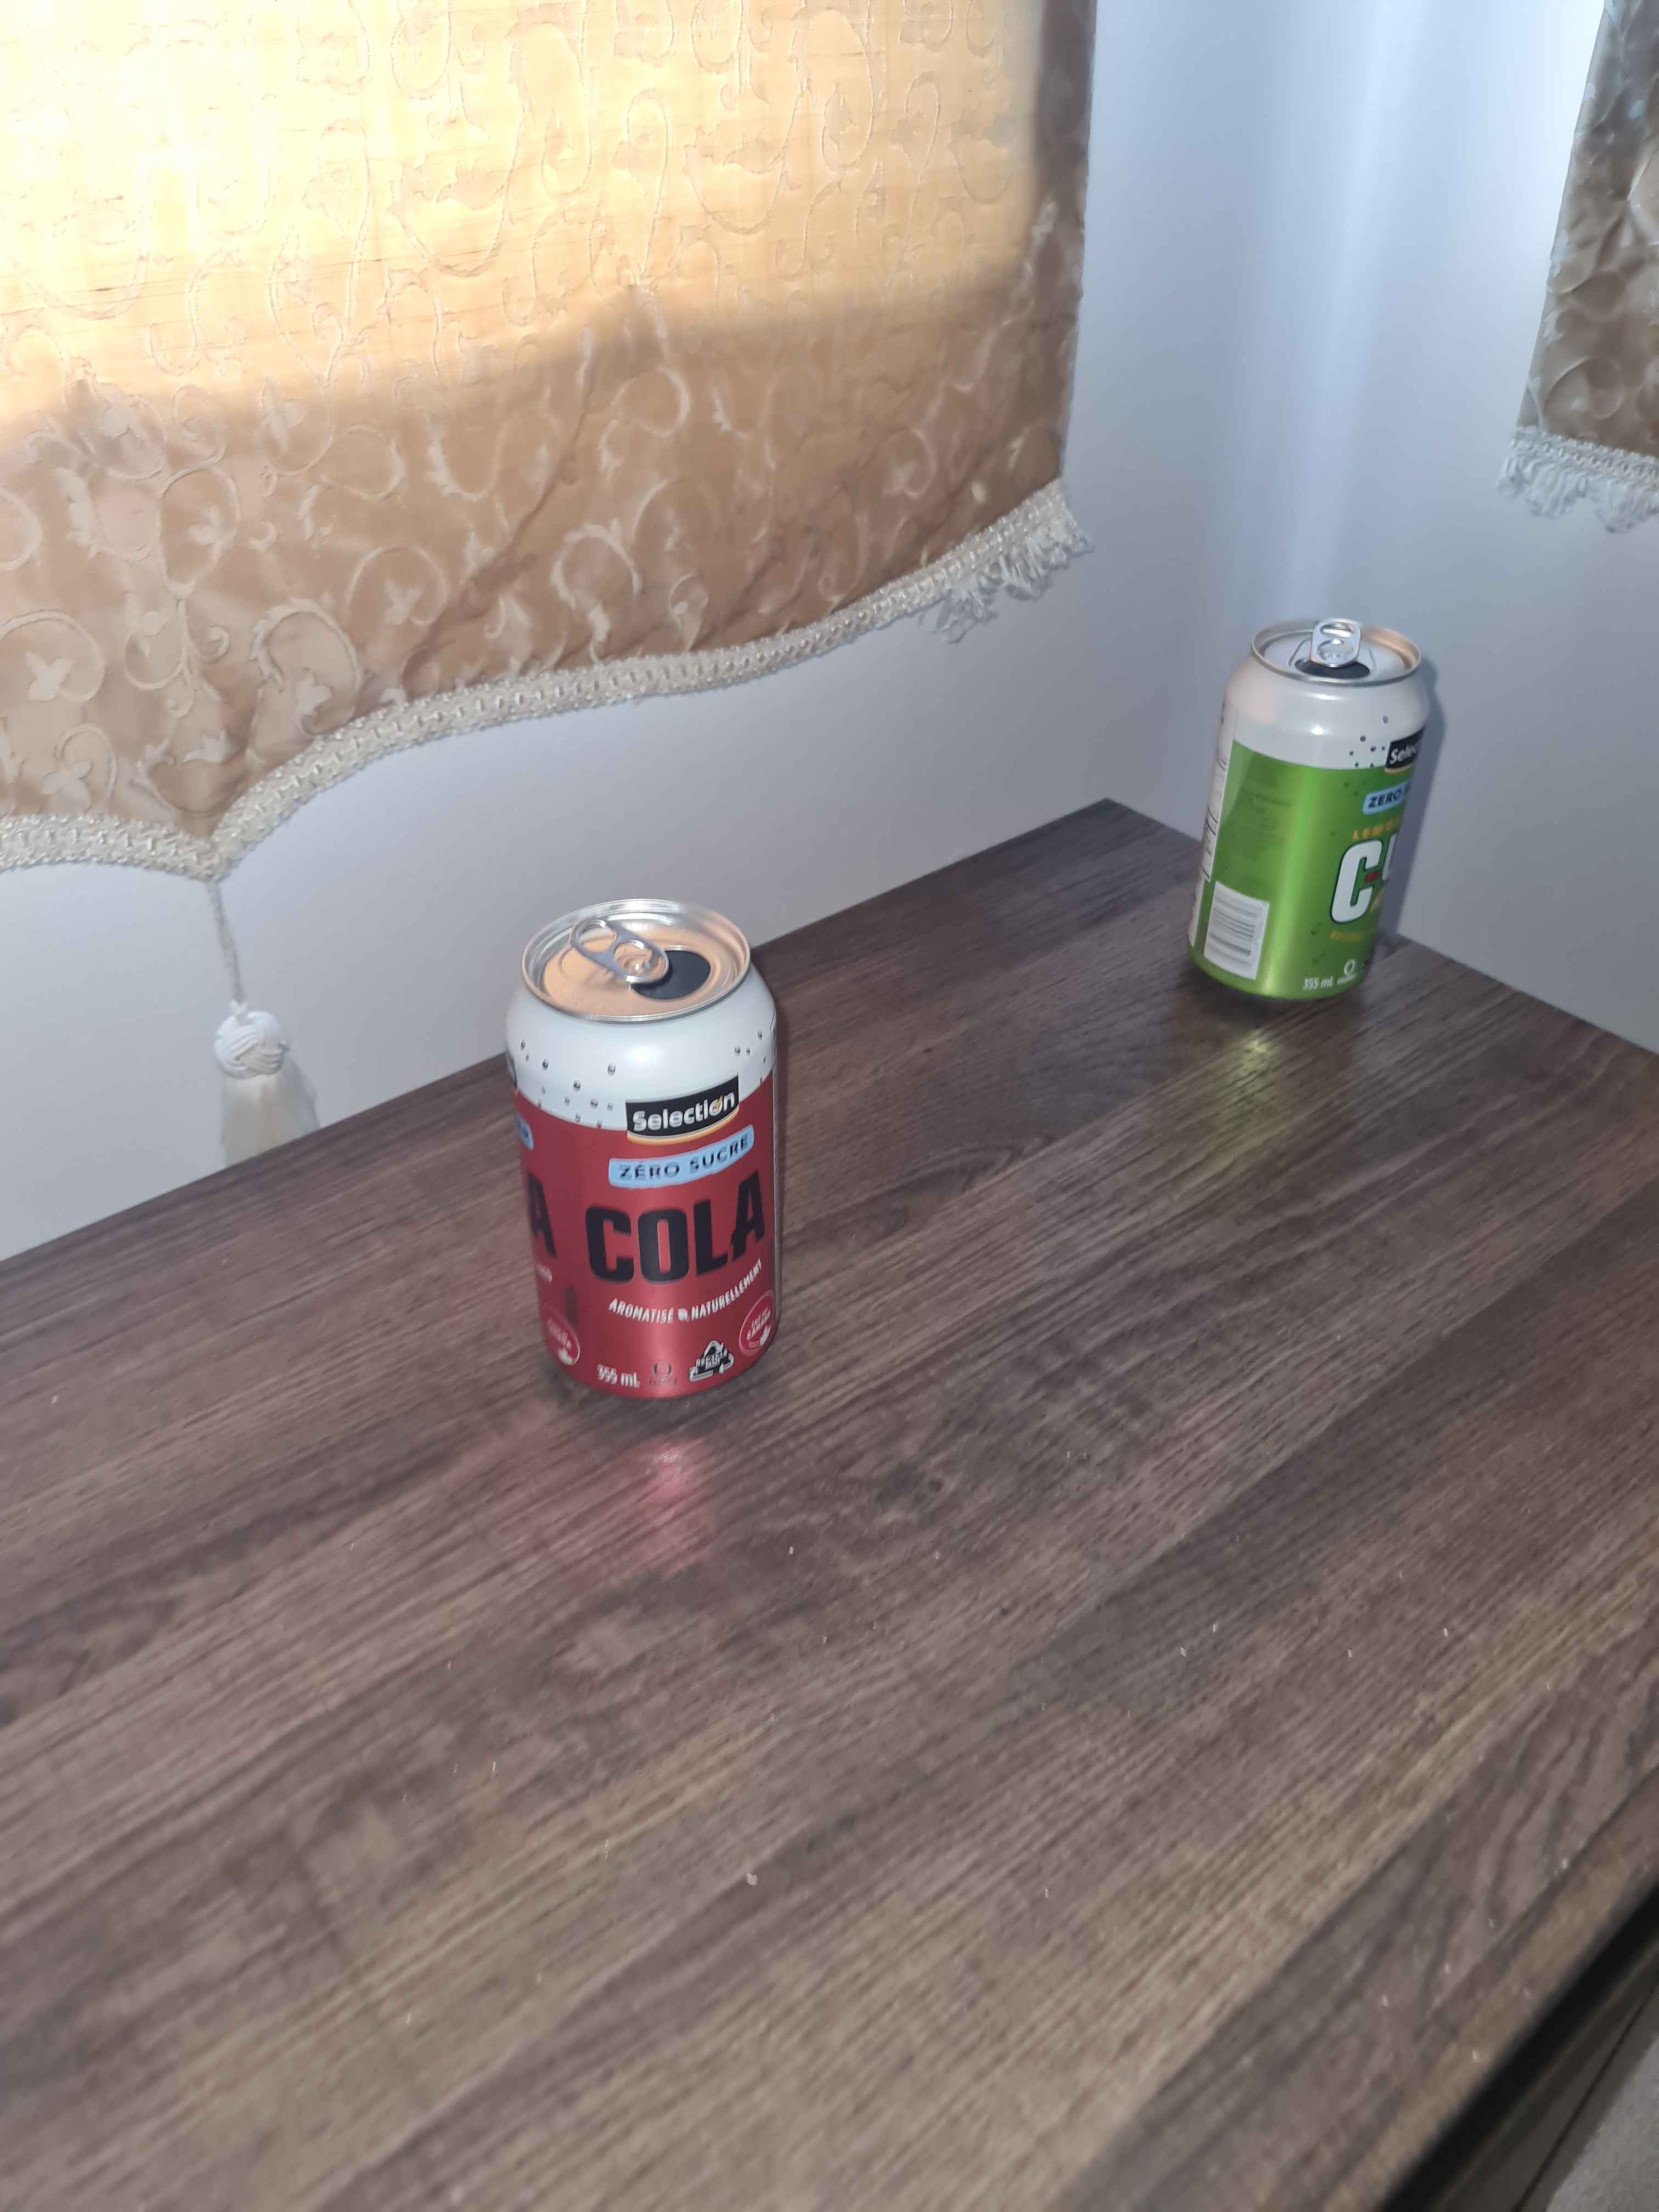soda can: (500, 874, 788, 1414), (1185, 617, 1436, 1014)
